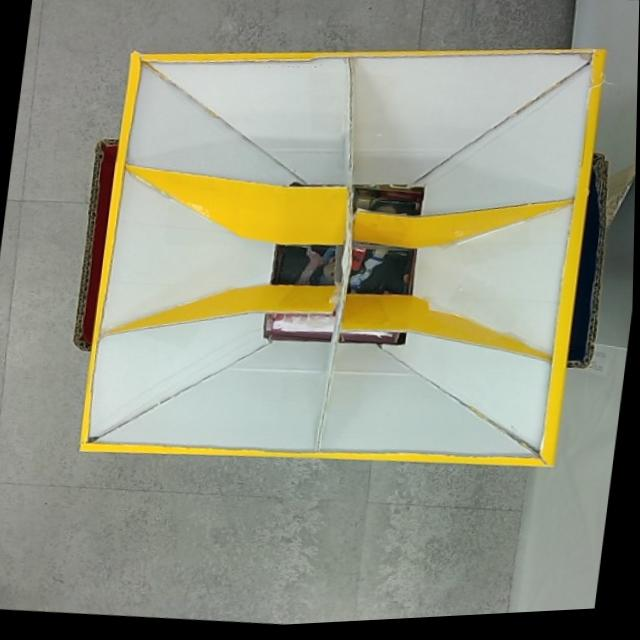box: (58, 0, 636, 503)
